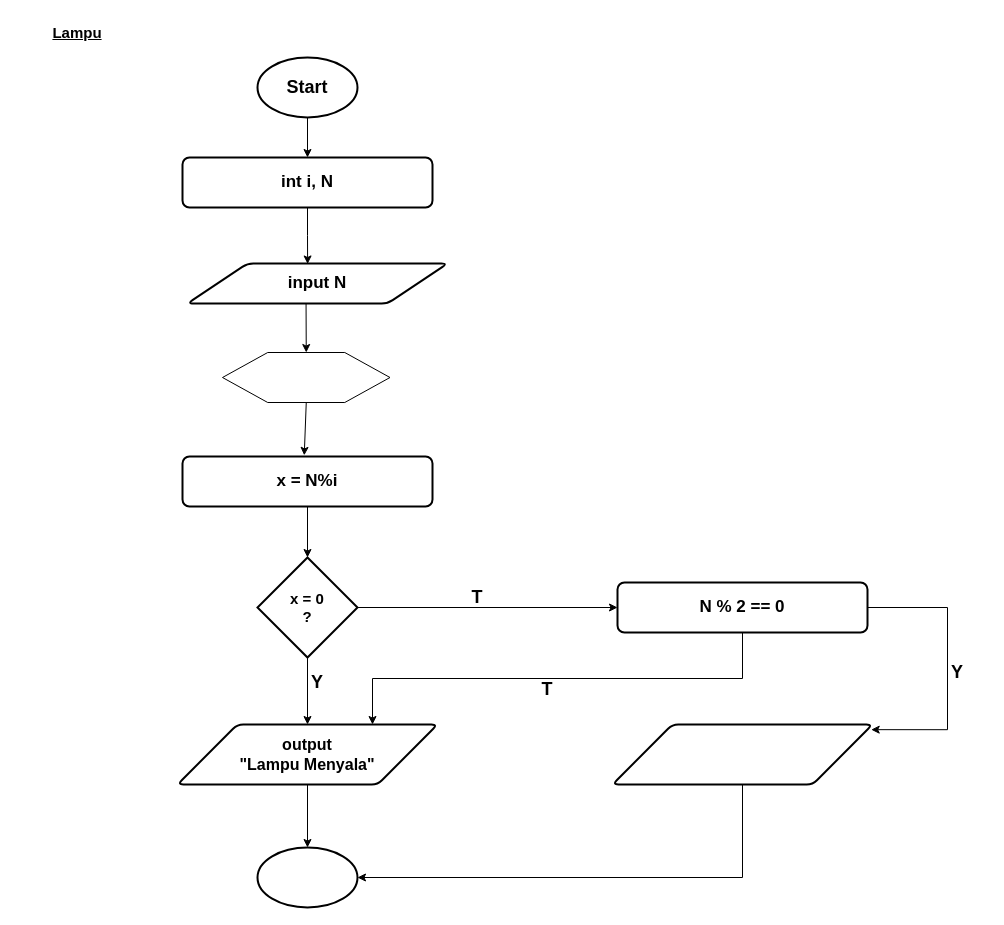
This 1004x925 diagram has some shape labels left out. Here are the shapes that lost their labels. From the top down, the centre of each, then its label:
the point at 306,377: i = 2; i <= N
the point at 742,754: output "Lampu Tidak Menyala"
the point at 307,877: End
